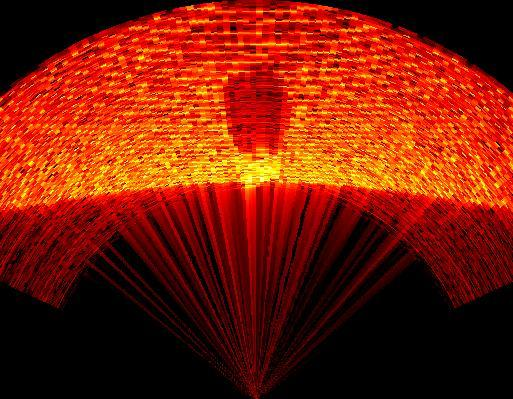box_crate: (222, 59, 294, 185)
